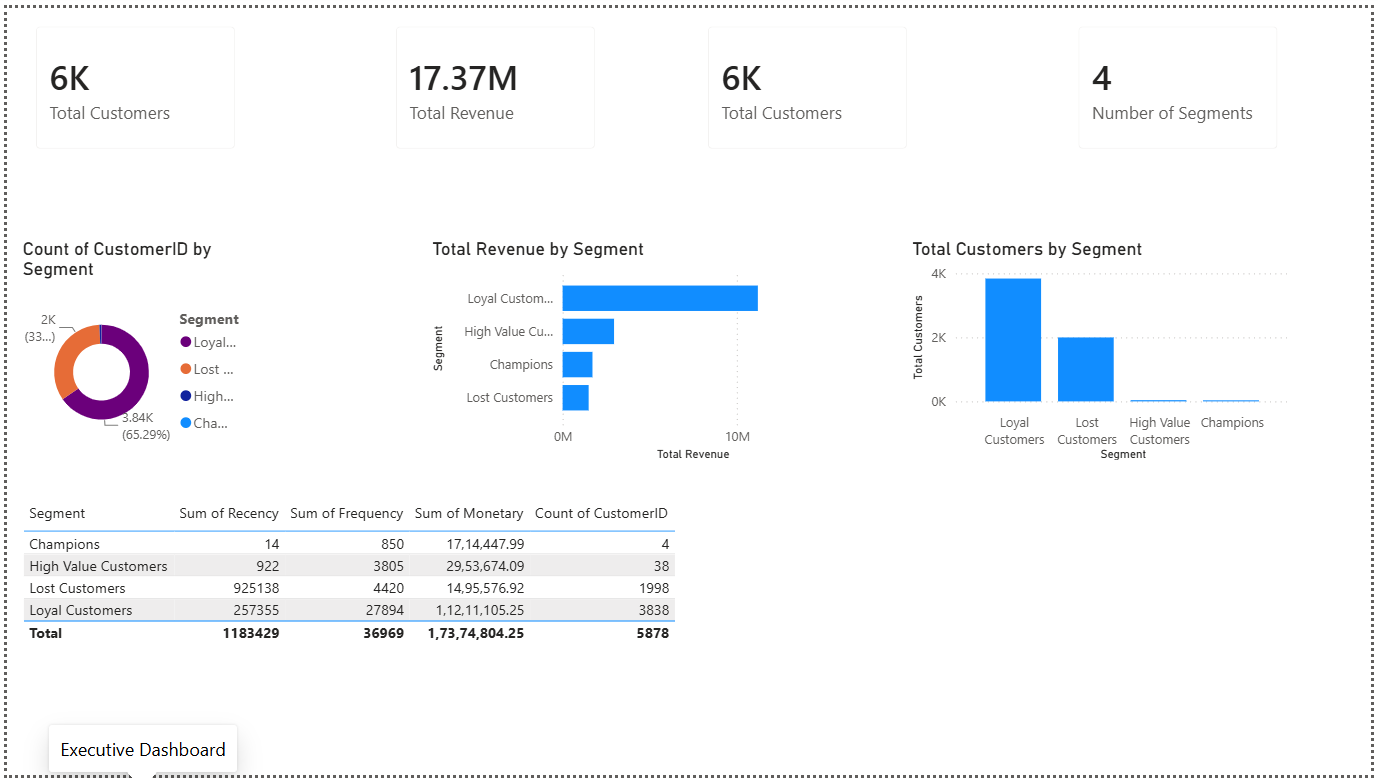

What the dashboard file says about the page in this screenshot:
{"tool":"powerbi","page":{"name":"Executive Dashboard","canvas":[1280,720],"ordinal":0},"visuals":[{"type":"cardVisual","fields":{"Data":["vw_customer_segments.Total Customers"]},"box":[9.4,0,221.1,149.3],"z":0},{"type":"cardVisual","fields":{"Data":["vw_customer_segments.Total Revenue"]},"box":[347.7,0,221.1,149.3],"z":1},{"type":"cardVisual","fields":{"Data":["vw_customer_segments.Total Customers"]},"box":[640.6,0,221.1,149.3],"z":2},{"type":"cardVisual","fields":{"Data":["vw_customer_segments.Number of Segments"]},"box":[988.4,0,221.1,149.3],"z":3},{"type":"donutChart","fields":{"Category":["vw_customer_segments.Segment"],"Y":["CountNonNull(vw_customer_segments.CustomerID)"]},"box":[9.4,215.4,221.1,213.5],"z":4},{"type":"clusteredBarChart","fields":{"Y":["vw_customer_segments.Total Revenue"],"Category":["vw_customer_segments.Segment"]},"box":[395,215.4,389.3,213.5],"z":5},{"type":"clusteredColumnChart","fields":{"Category":["vw_customer_segments.Segment"],"Y":["vw_customer_segments.Total Customers"]},"box":[844.7,215.4,364.7,213.5],"z":6},{"type":"tableEx","fields":{"Values":["vw_customer_segments.Segment","Sum(vw_customer_segments.Recency)","Sum(vw_customer_segments.Frequency)","Sum(vw_customer_segments.Monetary)","CountNonNull(vw_customer_segments.CustomerID)"]},"box":[9.4,457.3,631.2,156.9],"z":7}]}

Visuals, with their boxes in screenshot pixels (x1, y1, x2, y2), scaled from the page's 1280x720 canvas onto the 1378x778 screenshot:
cardVisual - vw_customer_segments.Total Customers: BBox(10, 0, 248, 161)
cardVisual - vw_customer_segments.Total Revenue: BBox(374, 0, 612, 161)
cardVisual - vw_customer_segments.Total Customers: BBox(690, 0, 928, 161)
cardVisual - vw_customer_segments.Number of Segments: BBox(1064, 0, 1302, 161)
donutChart - vw_customer_segments.Segment x CountNonNull(vw_customer_segments.CustomerID): BBox(10, 233, 248, 463)
clusteredBarChart - vw_customer_segments.Total Revenue x vw_customer_segments.Segment: BBox(425, 233, 844, 463)
clusteredColumnChart - vw_customer_segments.Segment x vw_customer_segments.Total Customers: BBox(909, 233, 1302, 463)
tableEx - vw_customer_segments.Segment x Sum(vw_customer_segments.Recency): BBox(10, 494, 690, 664)
